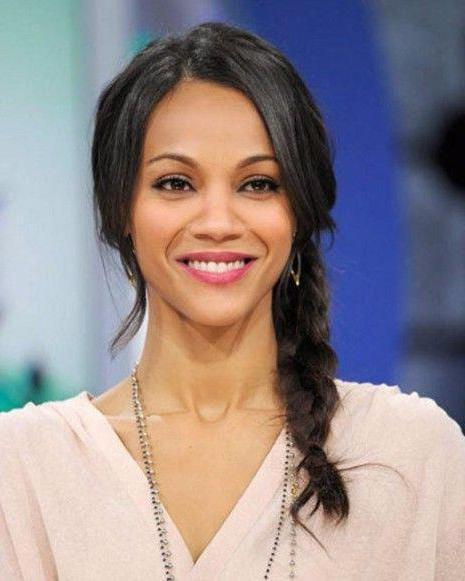Sober: (145, 109, 291, 306)
